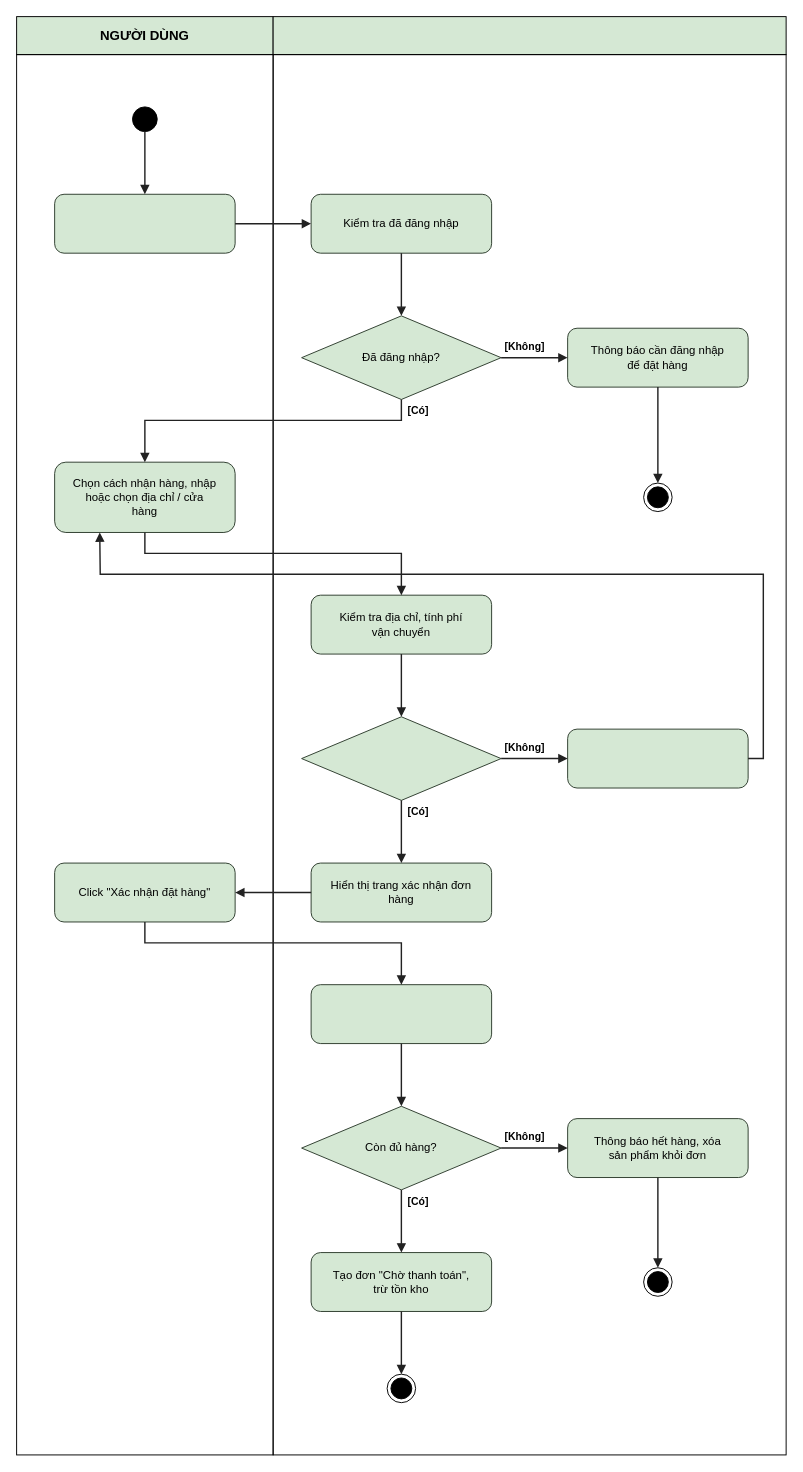
The diagram is 803 pixels wide and 1472 high, and some of its shapes have lost their labels. The shapes that lost their labels are listed below. From the top down, each one's box as (x1, y1, x2, y2) in pixels, then its label:
(272, 16, 786, 55): HỆ THỐNG
(54, 193, 235, 253): Click "Tiến hành đặt hàng" từ giỏ hàng
(301, 716, 501, 800): Địa chỉ hợp lệ?
(567, 728, 748, 788): Thông báo lỗi địa chỉ
(310, 984, 492, 1044): Kiểm tra tồn kho
